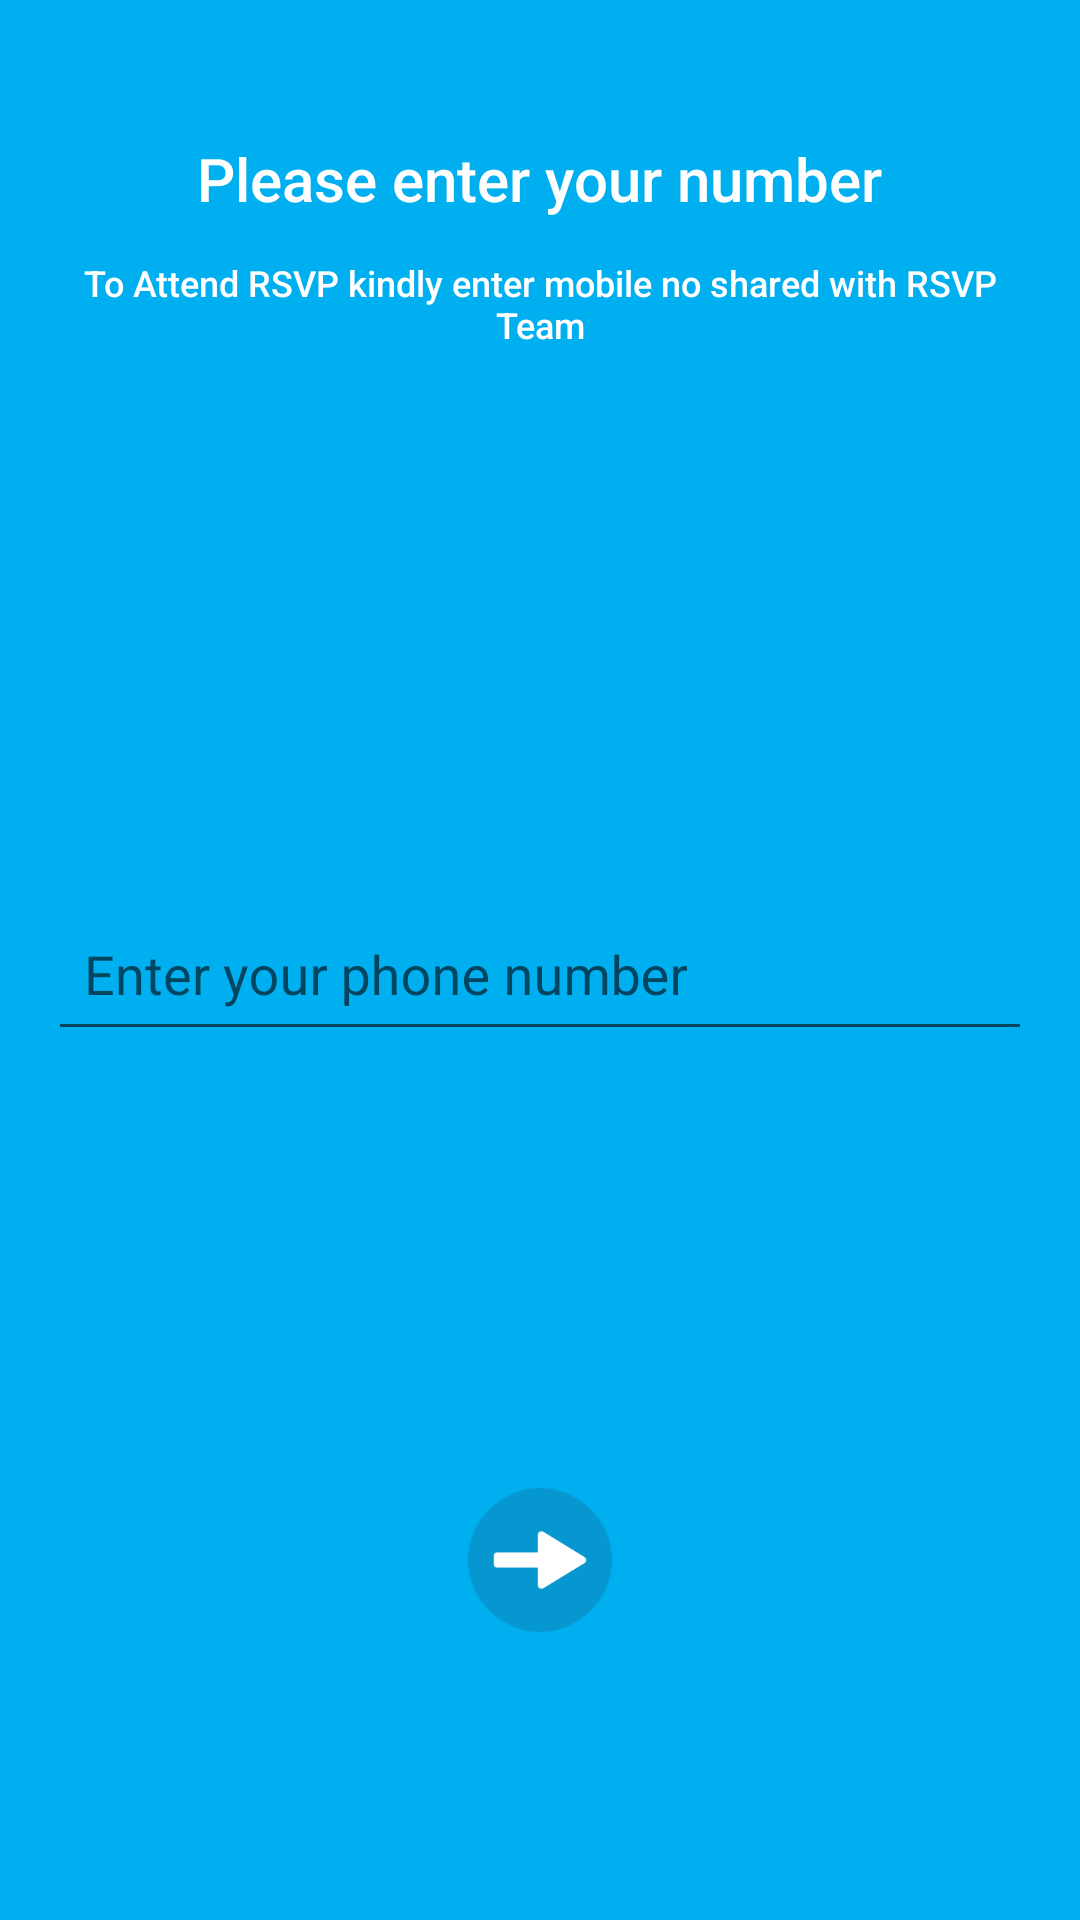

Screen size 1080*1920. Icon name, then its center in pixels as (x,y):
nexticon: (540,1560)
